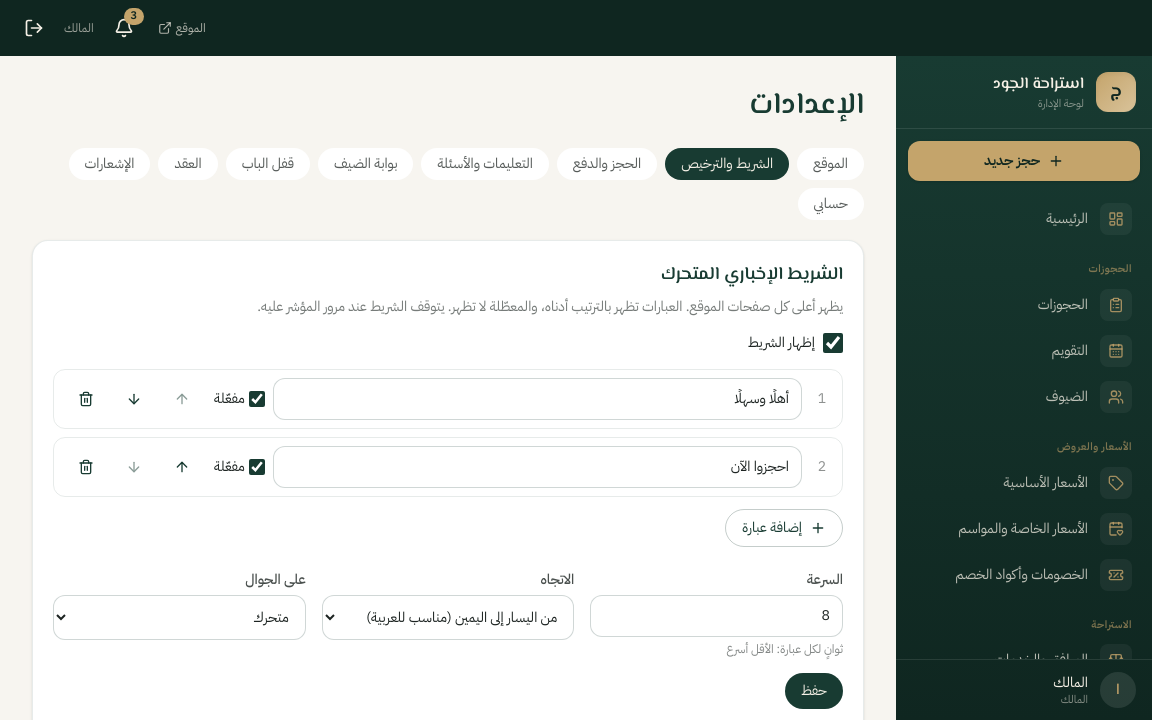
it: settings › edits the news ticker: add, reorder, disable, delete, speed and mobile mode
This screenshot has width=1152, height=720.
Earlier steps of the test are not shown.
Click the button "إضافة عبارة" at coordinates (784, 528), box [725,509,843,547]
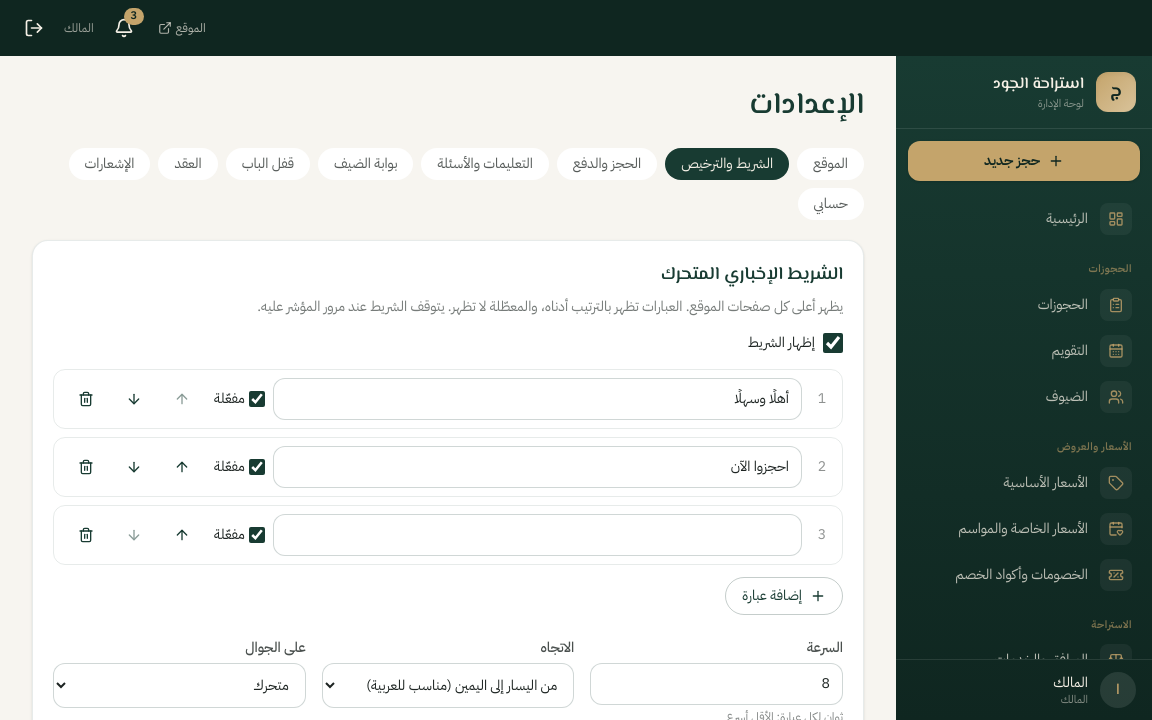
Type "عرض خاص" into the field named "العبارة 3" at coordinates (537, 535), box [273,514,802,556]
Click the button named "نقل العبارة 3 للأعلى" at coordinates (182, 535), box [158,519,206,551]
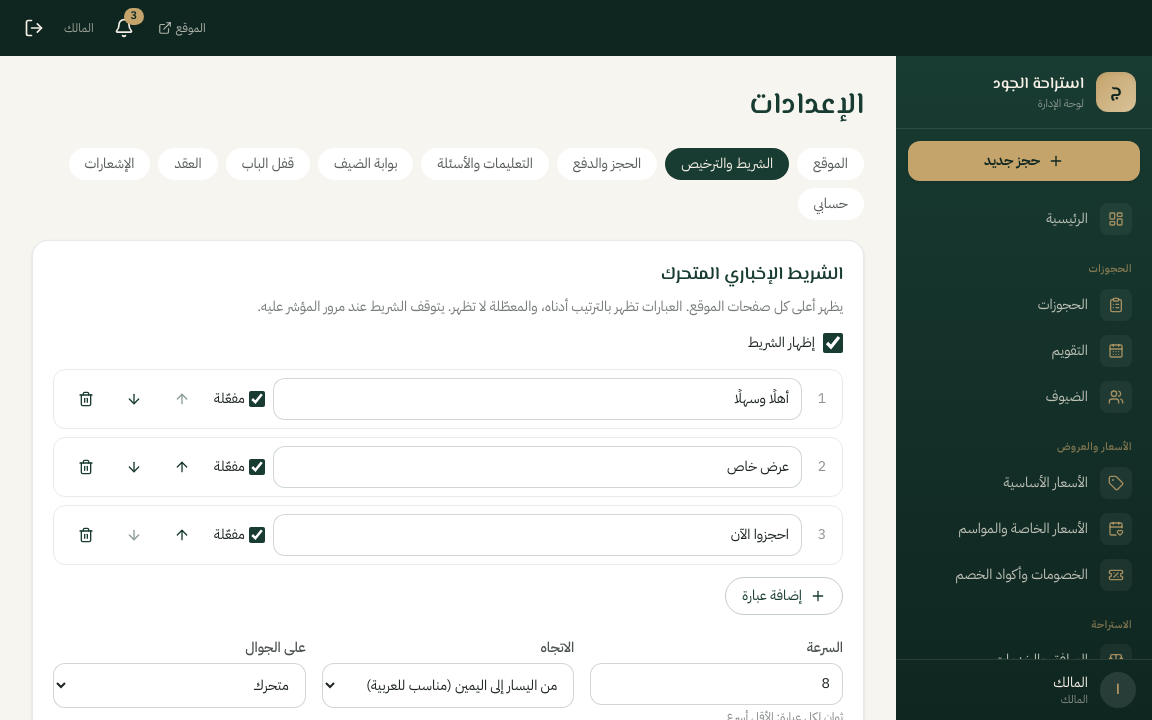
Click the 1st checkbox labelled "مفعّلة" at coordinates (257, 399), box [249,391,265,407]
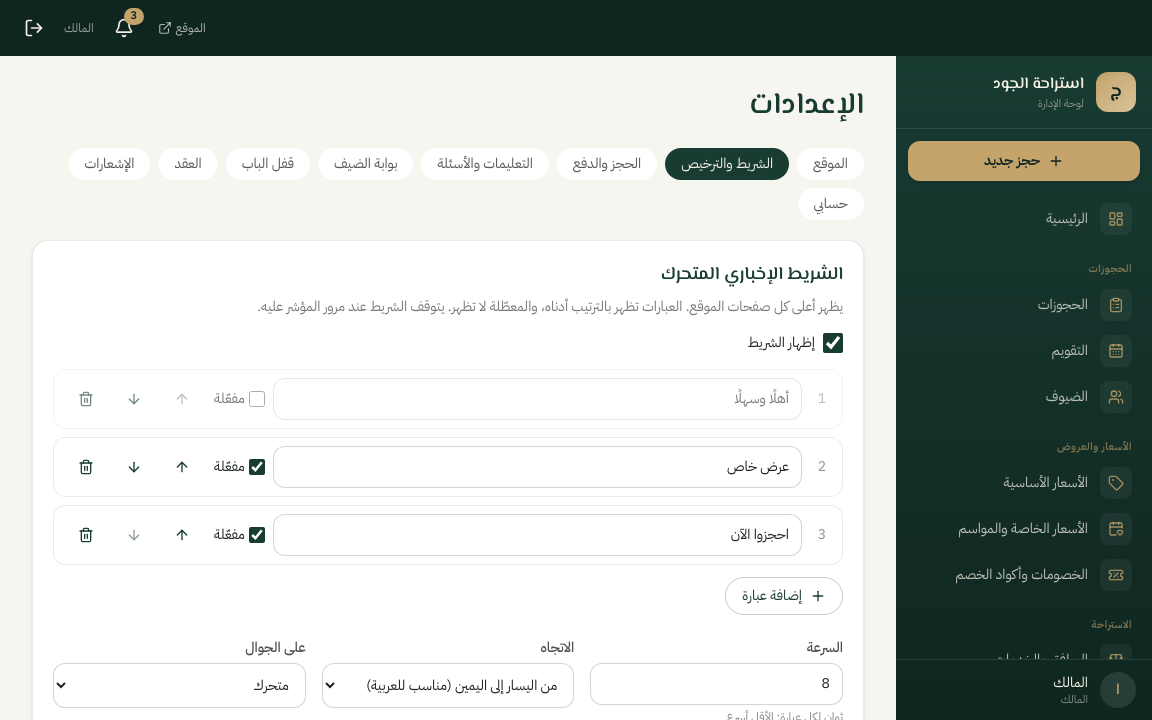
Click the button named "حذف العبارة 3" at coordinates (86, 535), box [62,519,110,551]
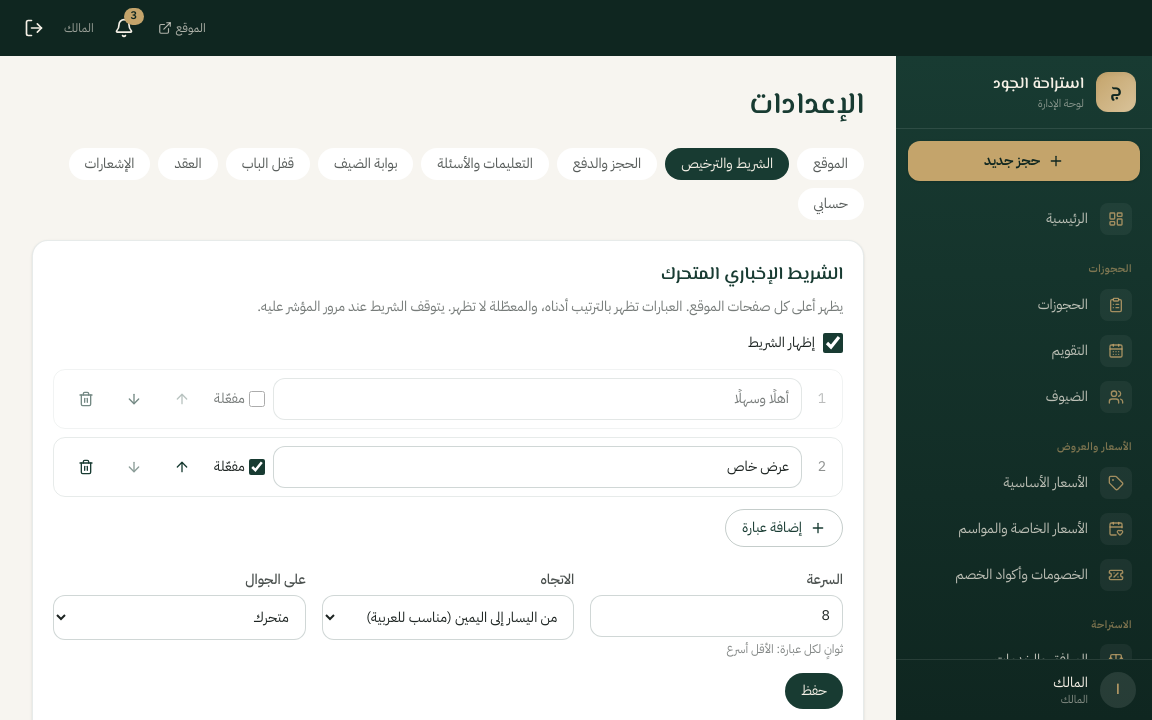
Replace the text in the number field labelled "السرعة ثوانٍ لكل عبارة: الأقل أسرع" with "5" at coordinates (717, 616), box [590,595,843,637]
Select "ثابت: عبارة واحدة تتبدل" in the dropdown labelled "على الجوال" at coordinates (179, 618), box [53,595,306,640]
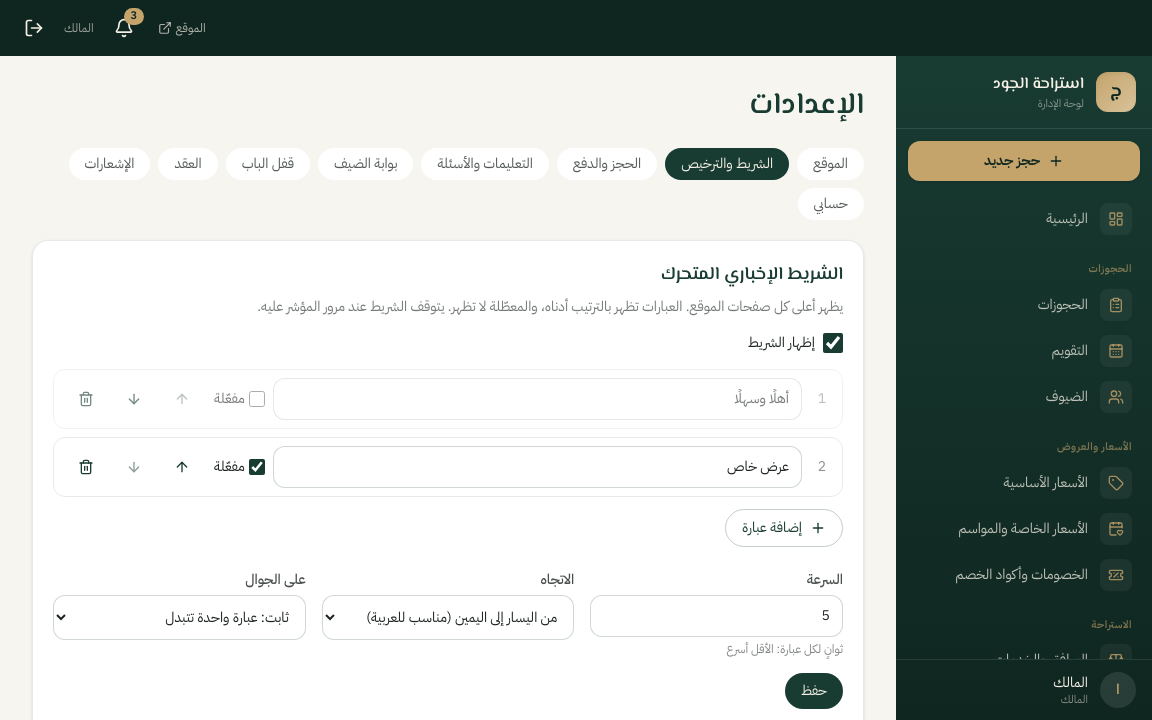
Click the button "حفظ" at coordinates (814, 691), box [785,673,843,709]
(page scrolled)
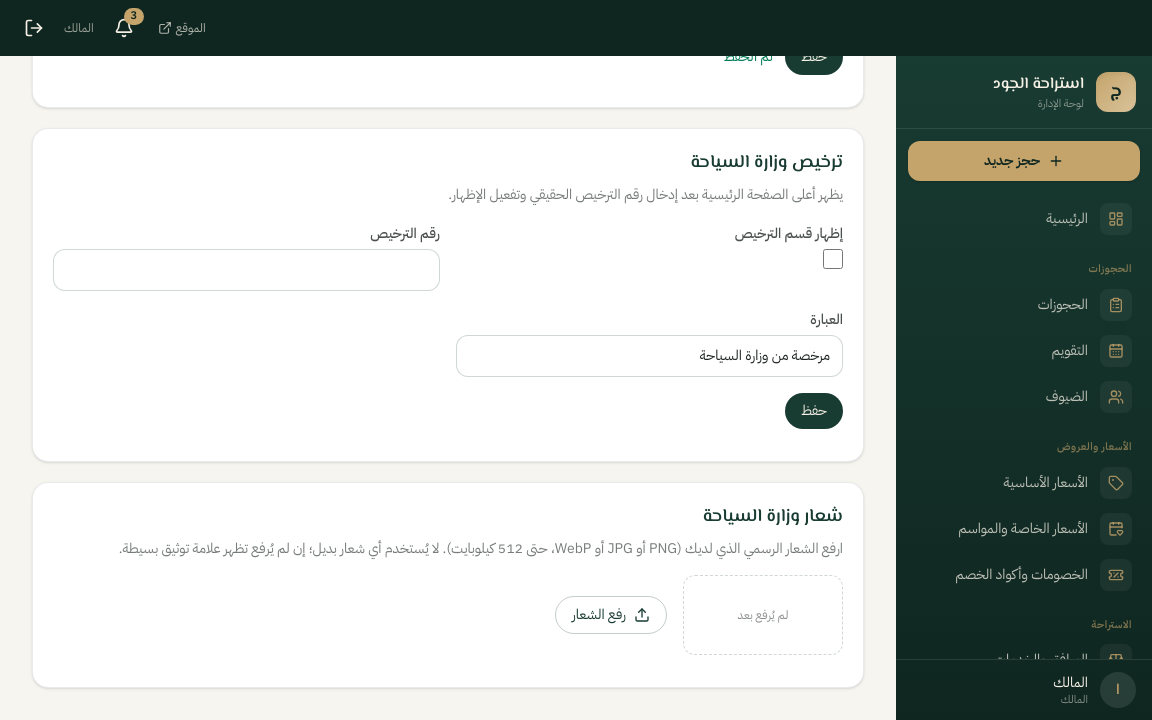
Now the heading "ترخيص وزارة السياحة" is shown, box [690,149,843,177]
Now the button "رفع الشعار" is shown, box [555,596,667,634]
Now the text "تم الحفظ" is shown, box [724,47,773,67]
